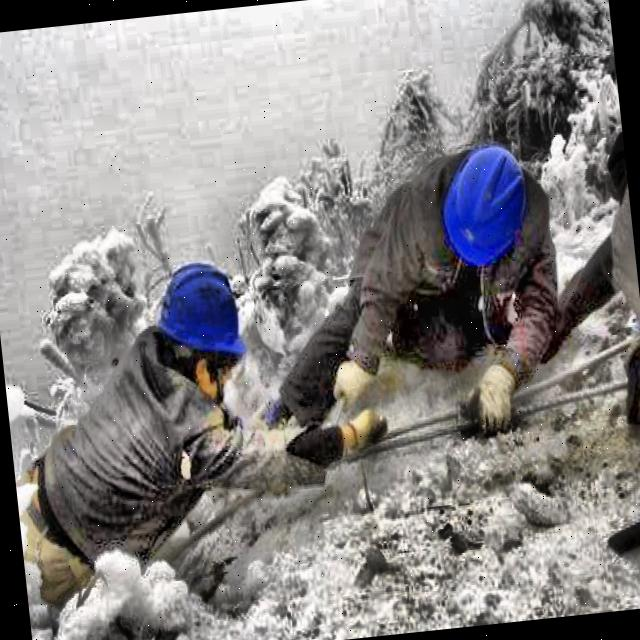helmet: (140, 243, 262, 418), (440, 142, 539, 276)
